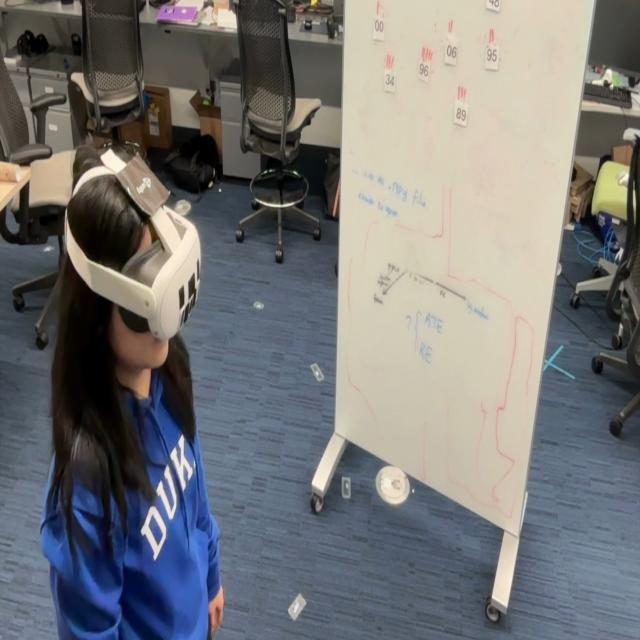Headset: (62, 142, 202, 342)
UnityLogo: (121, 147, 171, 220)
